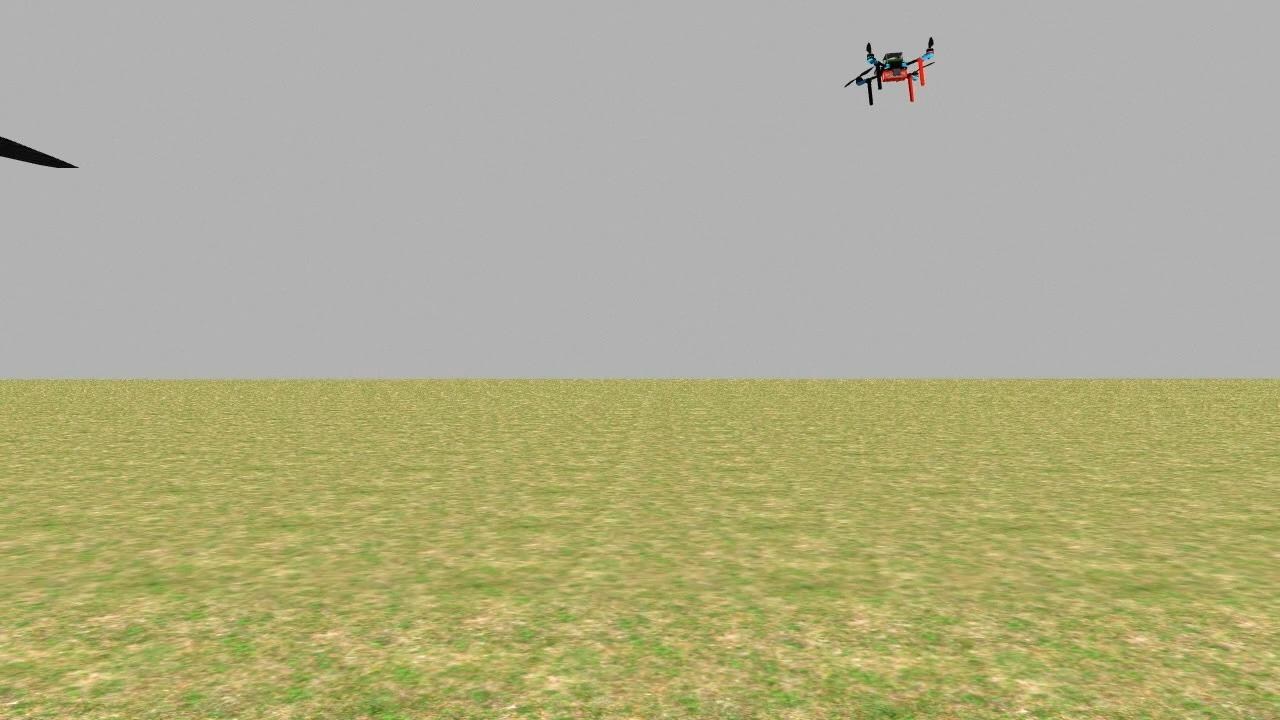UAV: (840, 36, 947, 106)
